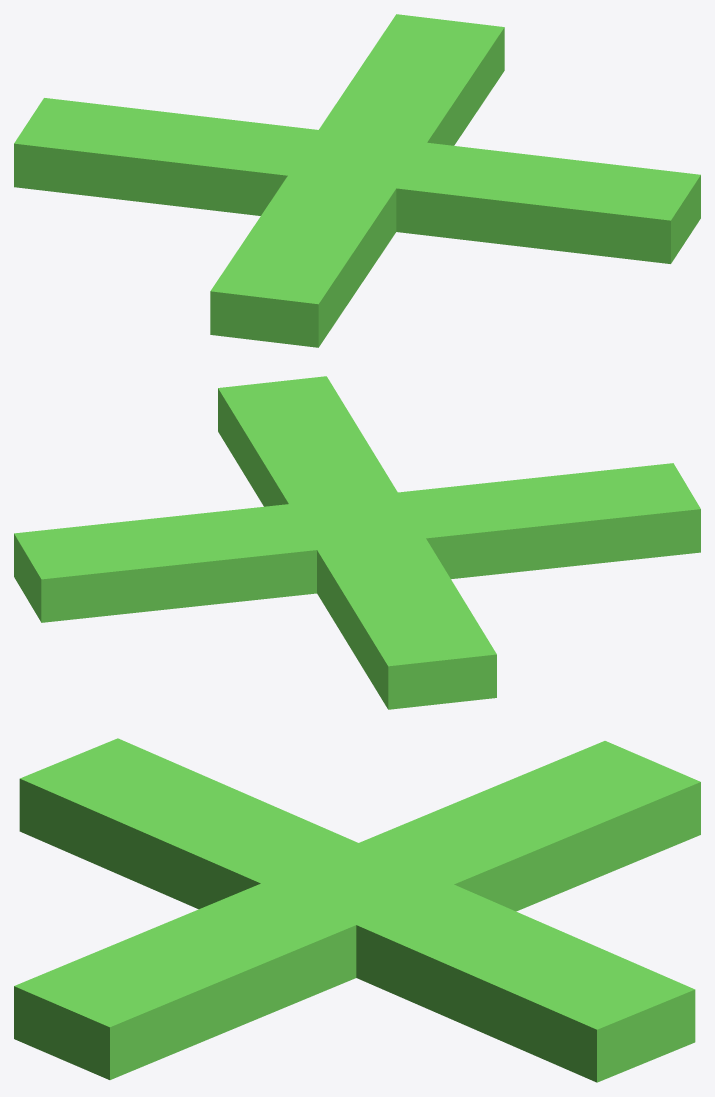
3 renders of one model, top to bottom at view 1: azimuth 30°, elevation 25°; view 2: azimuth 150°, elevation 25°; view 3: azimuth 270°, elevation 25°, orthographic. The views are drawn at different scales.
Parts seen in each view (by area): view 1: Cube, Cube.001; view 2: Cube.001, Cube; view 3: Cube, Cube.001.
Part boxes in pixels (x1=…): Cube: x1=14, y1=98, x2=700, y2=263; Cube.001: x1=210, y1=14, x2=504, y2=347; Cube.001: x1=14, y1=463, x2=700, y2=622; Cube: x1=218, y1=376, x2=496, y2=709; Cube: x1=14, y1=741, x2=700, y2=1079; Cube.001: x1=19, y1=738, x2=695, y2=1082.
Size of the model in its own units: 0.7038 by 0.0596 by 0.7009.
